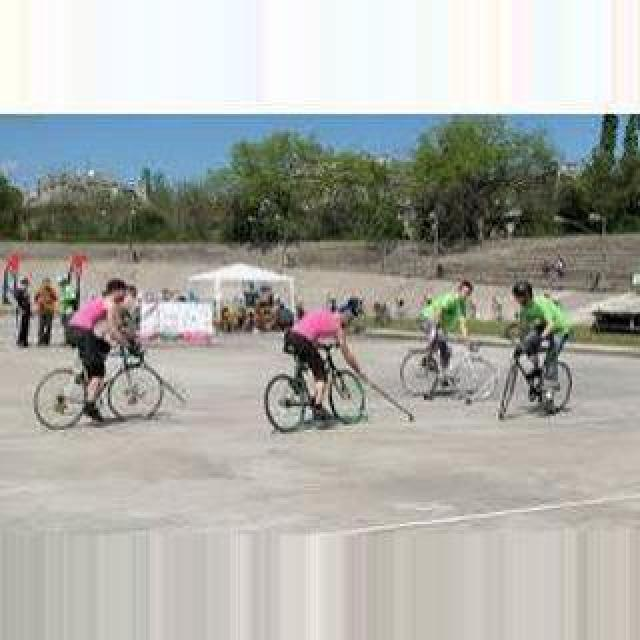MC-Bike: (66, 276, 144, 420), (506, 280, 566, 404), (282, 292, 360, 376), (418, 276, 474, 386), (34, 278, 60, 348), (12, 278, 34, 348)
Person: (34, 342, 172, 430), (264, 346, 370, 436), (498, 332, 574, 422), (400, 332, 496, 402)
